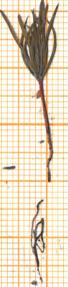flower: (0, 0, 64, 83)
root: (25, 198, 52, 285)
stem: (35, 81, 59, 183)
